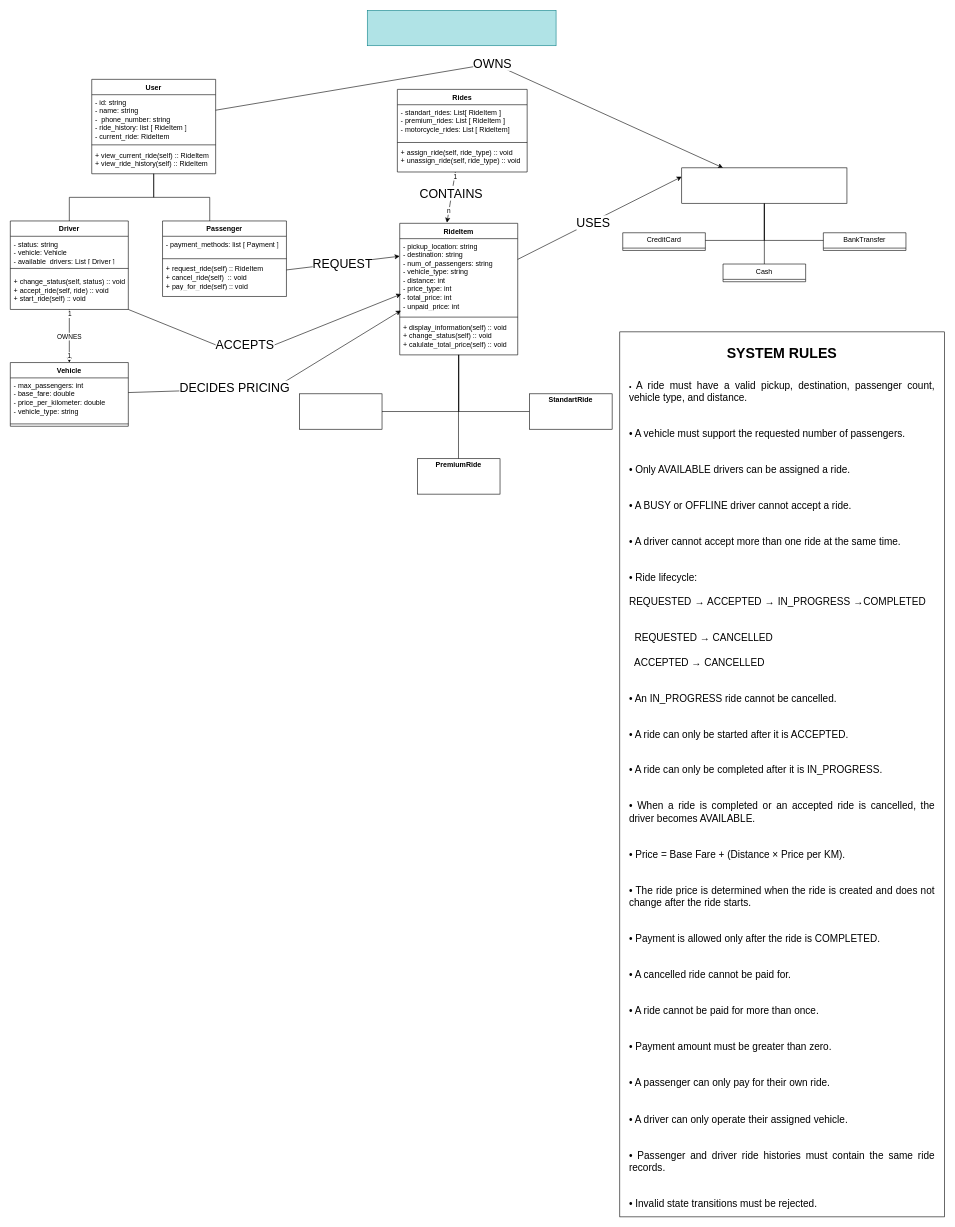
This 955x1227 diagram has some shape labels left out. The centre of each missing label's shape, as x and y in pixels:
"mini uber LLD" goes at (461,28).
"MotorcycleRide" goes at (340,411).
"Payment + pay(self, ride_item) :: void" goes at (764,185).
